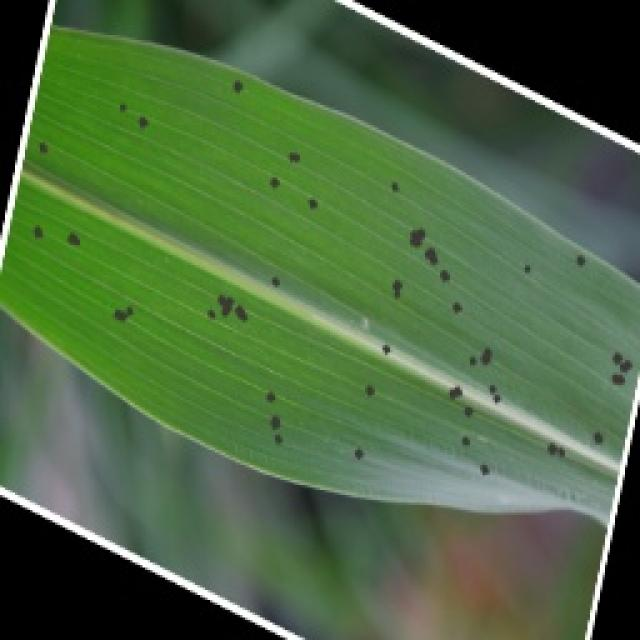Tar_Spot: (50, 40, 626, 480)
